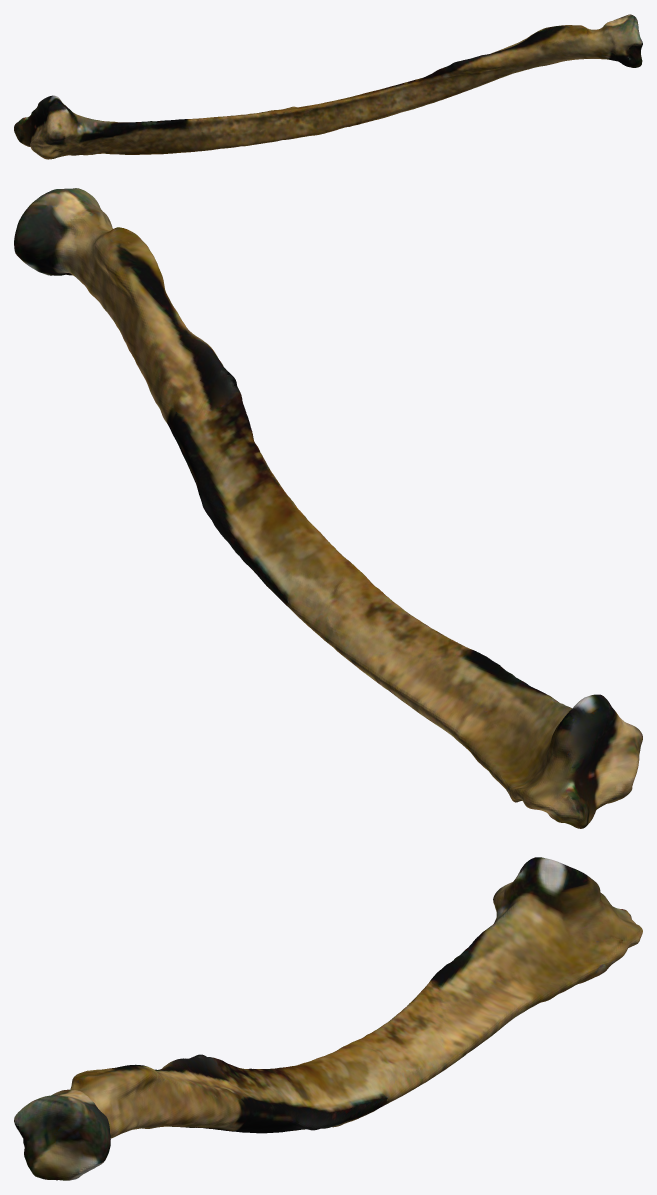
The model's file is 2_ribs.glb.
The picture shows the model from 3 angles, top to bottom: view 1: azimuth 30°, elevation 25°; view 2: azimuth 150°, elevation 25°; view 3: azimuth 270°, elevation 25°; orthographic projection. The views are drawn at different scales.
Visible parts, largest first — view 1: Node; view 2: Node; view 3: Node.
Boxes of the visible parts, <box> form: Node: <box>14,14,642,159</box>; Node: <box>14,188,642,828</box>; Node: <box>14,857,642,1180</box>.
Bounding box in the file's own units: 111 × 30.72 × 73.04.
1 material, 1 textured.
